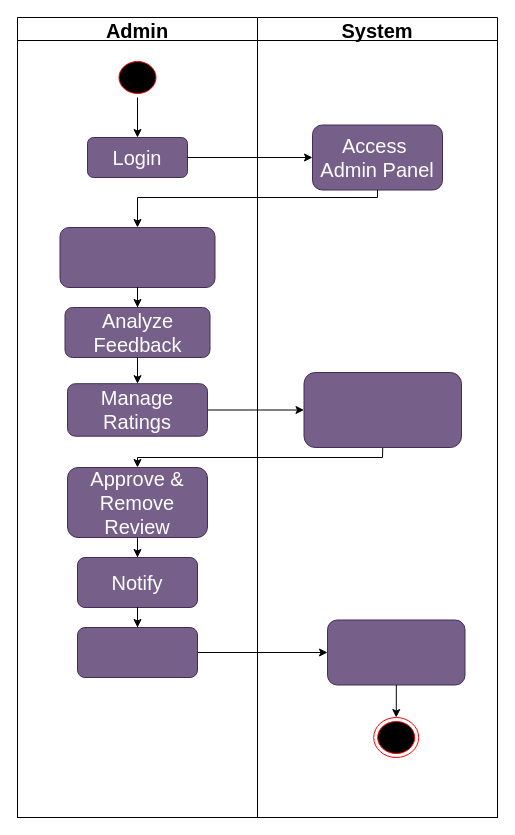
Some shapes in this 515 by 835 pixel diagram are drawn without their labels. Here are the shapes that lost their labels. From the top down, the centre of each, then its label:
[137,257]: View Product Review
[382,410]: Generate Customer Review
[137,652]: Solve Review
[395,652]: Display On Website
